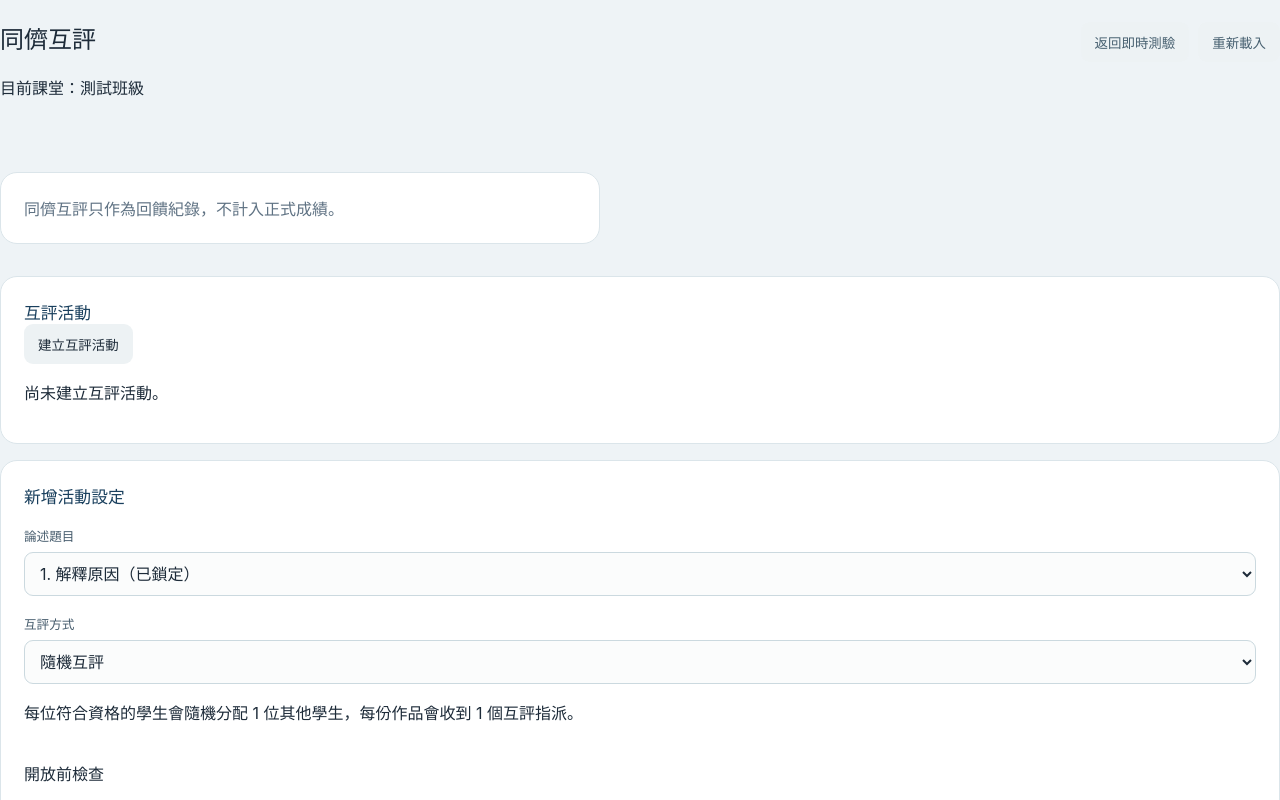
Test: Teacher Peer Review setup › rejects capacity -1 without IPC
This screenshot has width=1280, height=800.
Step 1. Select "學生自行選擇" in the dropdown labelled "互評方式" → (640, 662), box left=24, top=640, right=1256, bottom=684
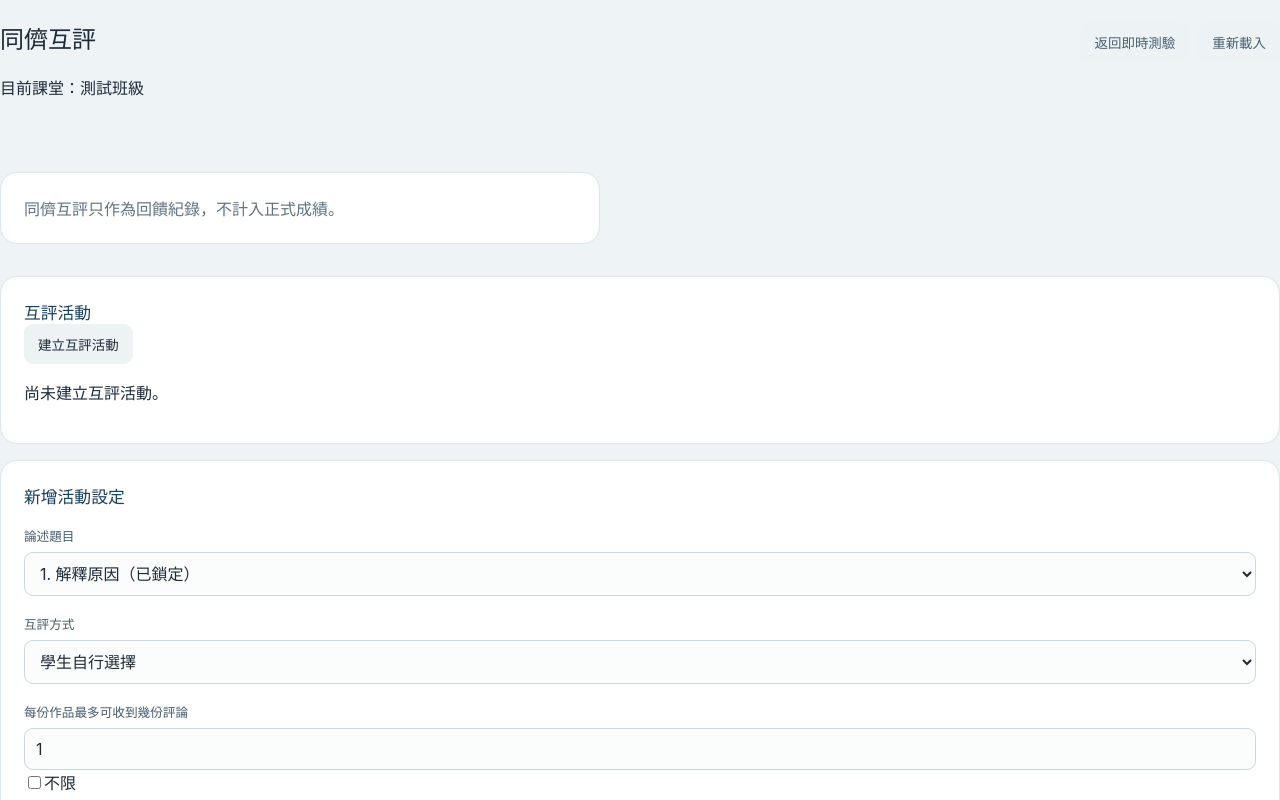
Step 2. Replace the text in the number field labelled "每份作品最多可收到幾份評論" with "-1" → (640, 749), box left=24, top=728, right=1256, bottom=770
(page scrolled)
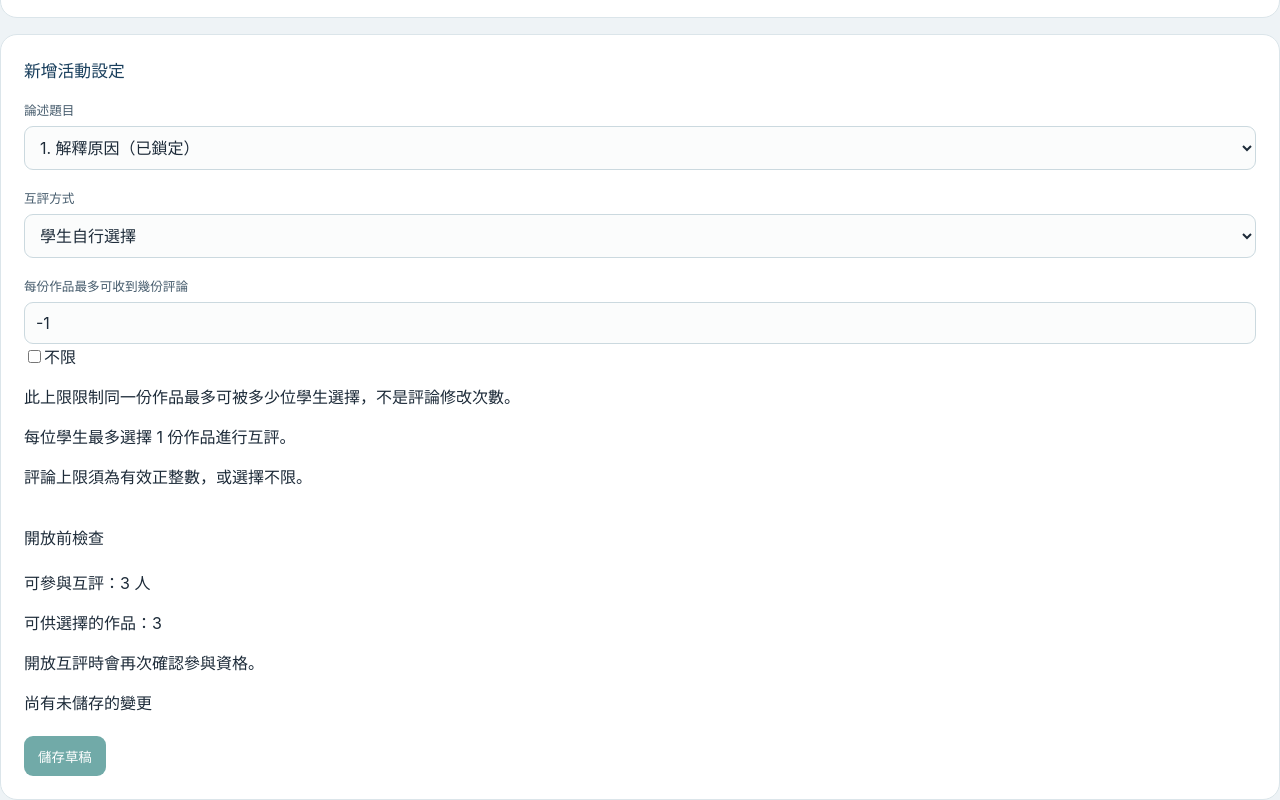
Result: the button "儲存草稿" is disabled at left=24, top=736, right=106, bottom=776
